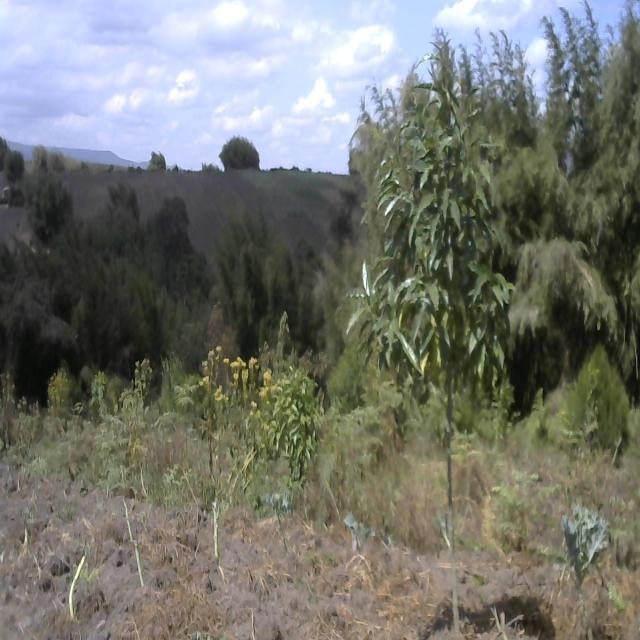cedrus: (534, 0, 640, 406), (433, 23, 533, 360), (346, 67, 436, 283)
other: (345, 53, 512, 640), (275, 367, 321, 486), (231, 249, 273, 339), (217, 120, 266, 177), (27, 182, 74, 240), (0, 147, 28, 188)
